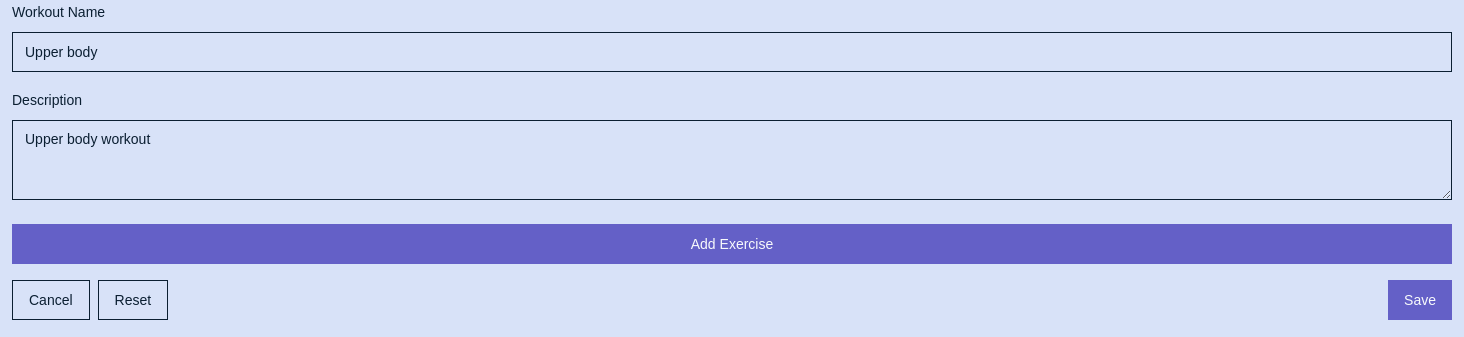
Scenario: Workout form › resets form
Replace the text in the field labelled "Workout Name" with "Lower body" at (732, 52), box [12, 32, 1452, 72]
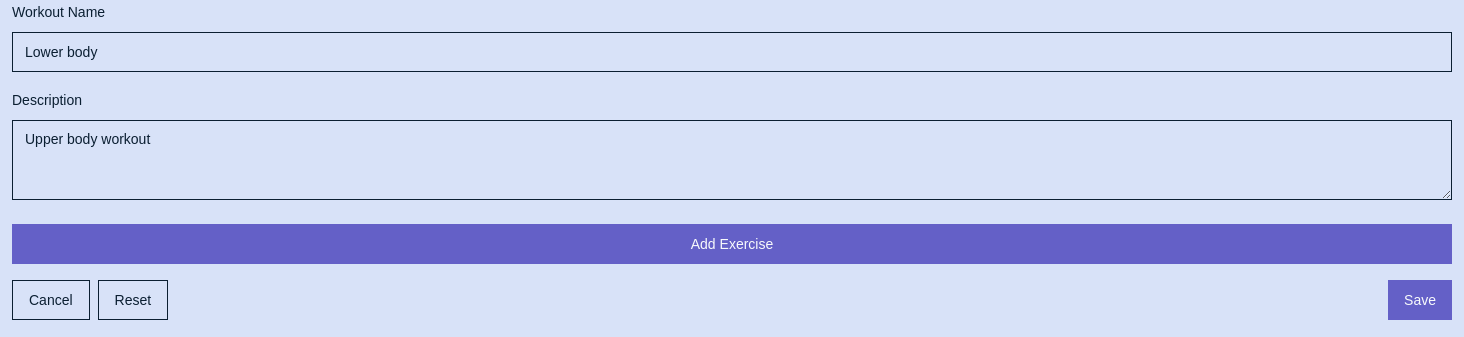
Replace the text in the text box labelled "Description" with "Lower body workout" at (732, 160), box [12, 120, 1452, 200]
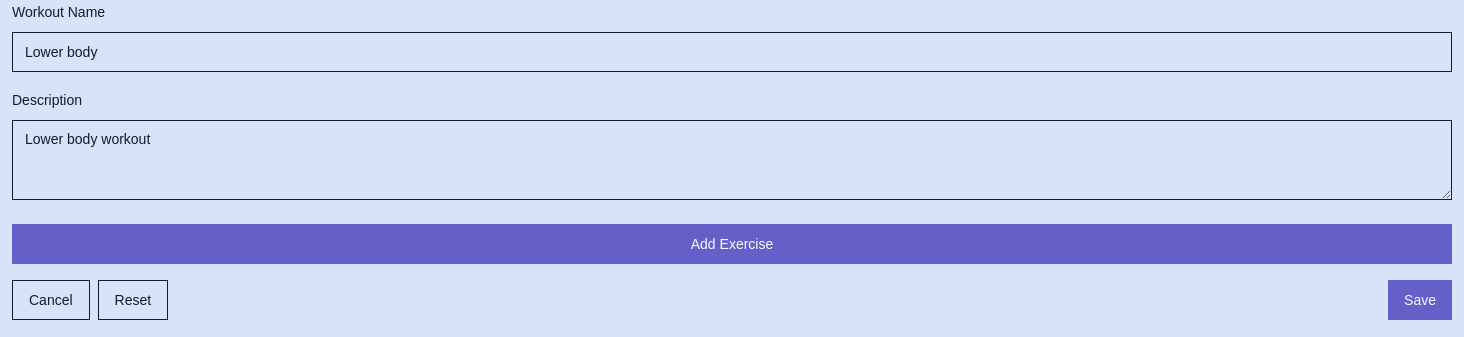
Click the button "Reset" at (133, 300), box [98, 280, 168, 320]
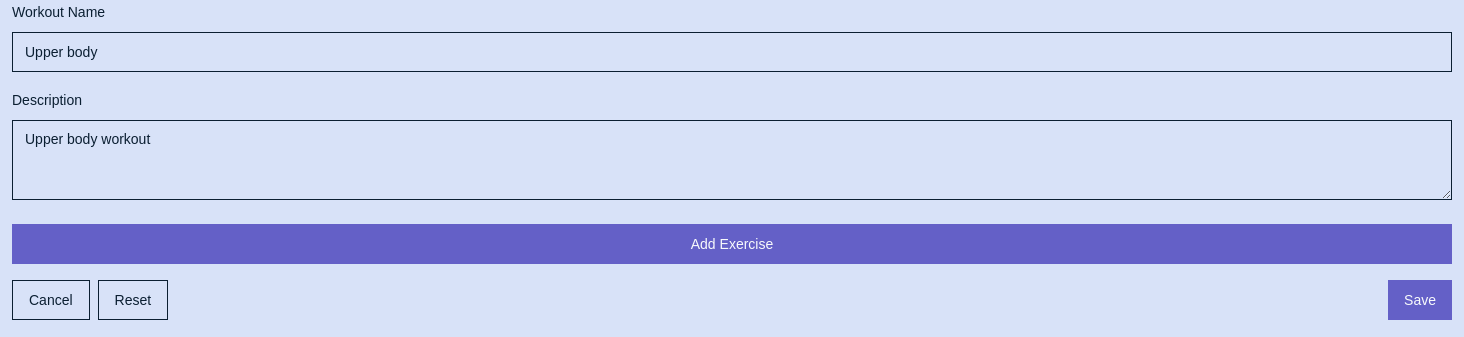
Result: the field labelled "Workout Name" holds "Upper body" at [12, 32, 1452, 72]
Result: the text box labelled "Description" holds "Upper body workout" at [12, 120, 1452, 200]
